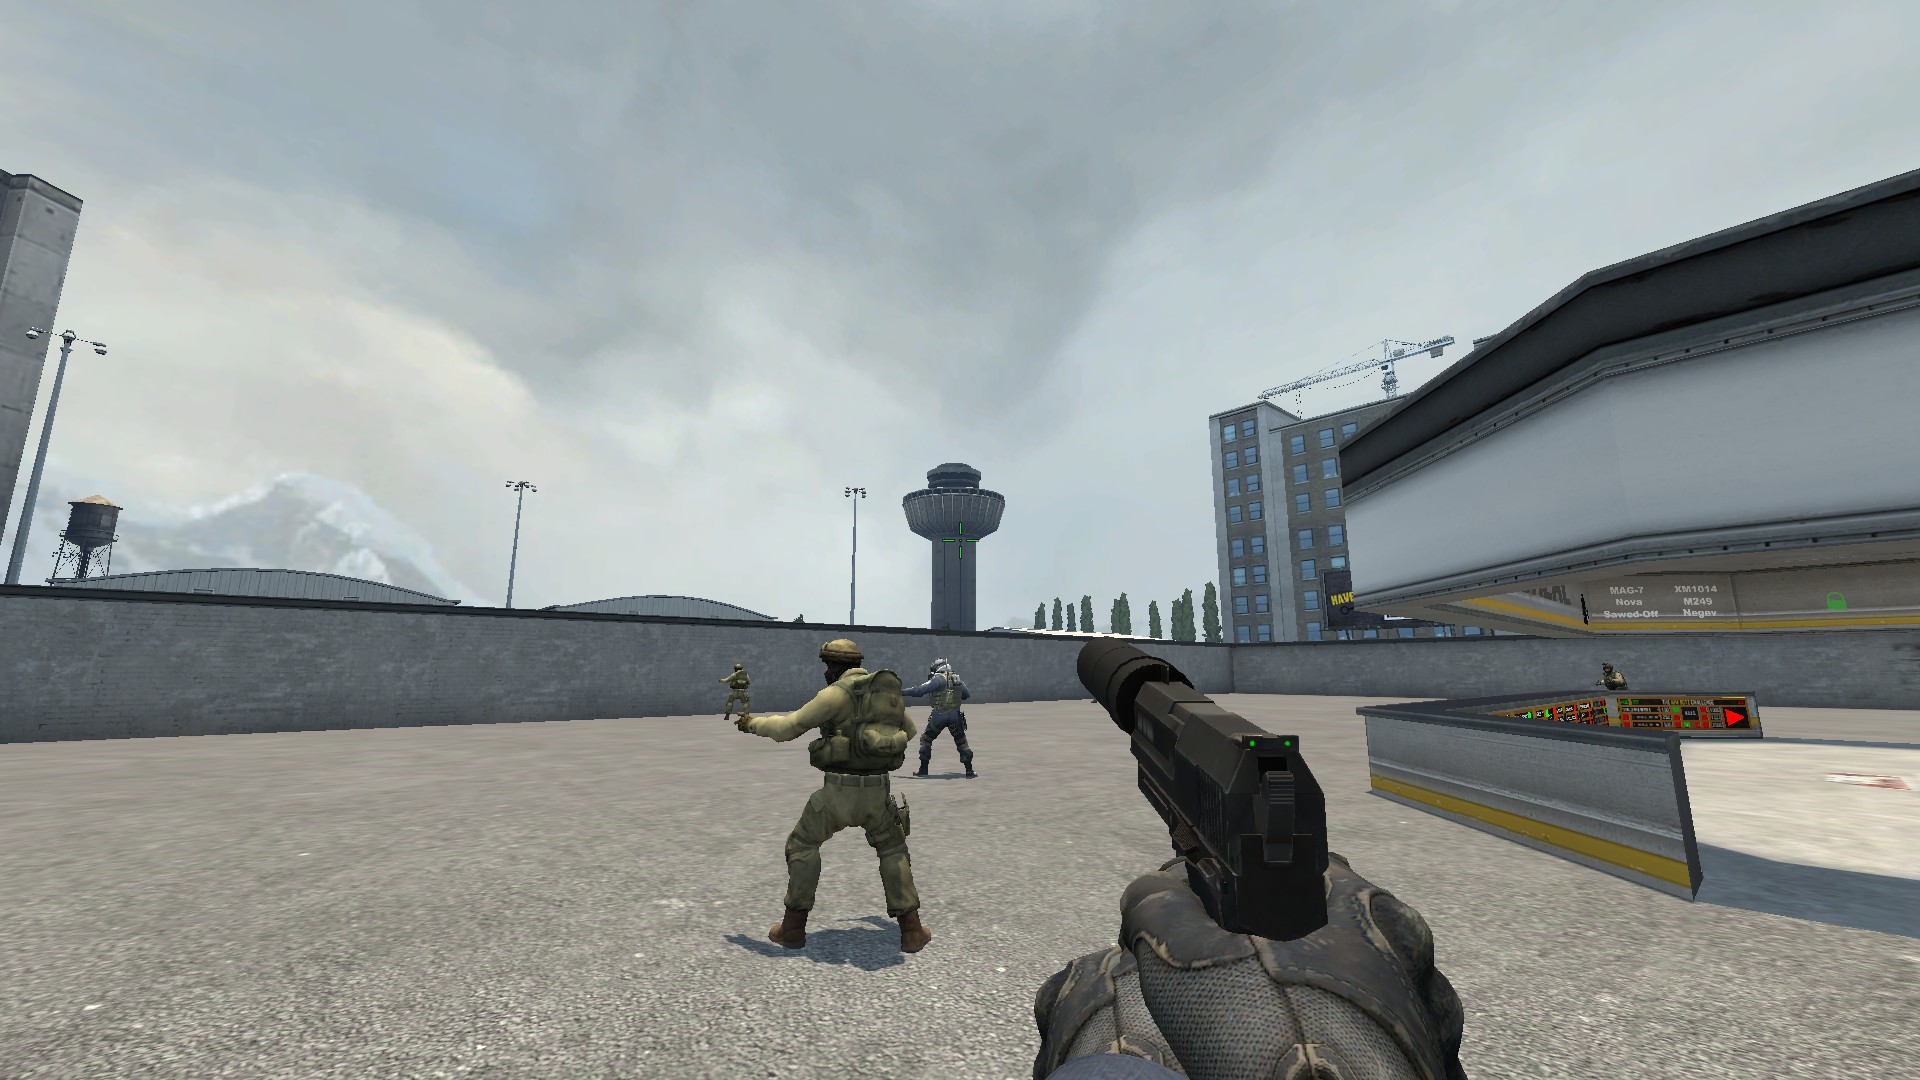ct: (735, 638, 938, 964)
ct head: (814, 632, 866, 691)
